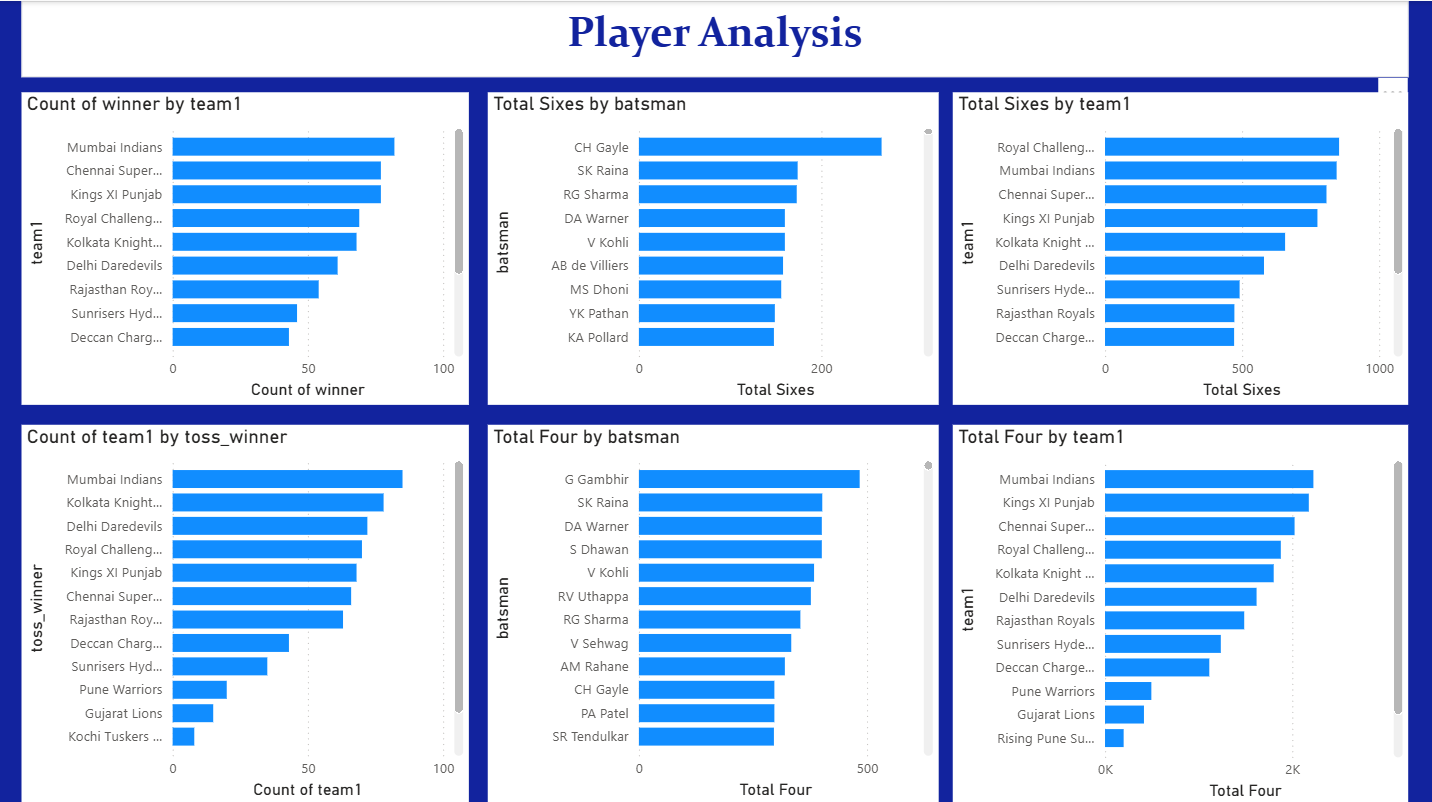

The dashboard page shown, as its layout file describes it:
{"tool":"powerbi","page":{"name":"Page 2","canvas":[1280,720],"ordinal":1},"visuals":[{"type":"textbox","box":[20.3,0,1235.1,68.1],"z":0},{"type":"barChart","fields":{"Category":["matches (1) csv.team1"],"Y":["CountNonNull(matches (1) csv.winner)"]},"box":[20.3,81.2,398.6,278.3],"z":1000},{"type":"barChart","fields":{"Category":["matches (1) csv.toss_winner"],"Y":["CountNonNull(matches (1) csv.team1)"]},"box":[20.3,376.9,398.6,337.8],"z":2000},{"type":"barChart","fields":{"Y":["deliveries.Total Four"],"Category":["deliveries.batsman"]},"box":[434.9,376.9,401.5,337.8],"z":3000},{"type":"barChart","fields":{"Category":["deliveries.batsman"],"Y":["deliveries.Total Sixes"]},"box":[434.9,81.2,401.5,278.3],"z":4000},{"type":"barChart","fields":{"Category":["matches (1) csv.team1"],"Y":["deliveries.Total Four"]},"box":[849.5,376.9,405.9,339.2],"z":5000},{"type":"barChart","fields":{"Category":["matches (1) csv.team1"],"Y":["deliveries.Total Sixes"]},"box":[849.5,81.2,405.9,278.3],"z":6000}]}

Visuals, with their boxes in screenshot pixels (x1, y1, x2, y2), scaled from the page's 1280x720 canvas onto the 1432x802 screenshot:
textbox: (23, 0, 1404, 76)
barChart - matches (1) csv.team1 x CountNonNull(matches (1) csv.winner): (23, 90, 469, 400)
barChart - matches (1) csv.toss_winner x CountNonNull(matches (1) csv.team1): (23, 420, 469, 796)
barChart - deliveries.Total Four x deliveries.batsman: (487, 420, 936, 796)
barChart - deliveries.batsman x deliveries.Total Sixes: (487, 90, 936, 400)
barChart - matches (1) csv.team1 x deliveries.Total Four: (950, 420, 1404, 798)
barChart - matches (1) csv.team1 x deliveries.Total Sixes: (950, 90, 1404, 400)
